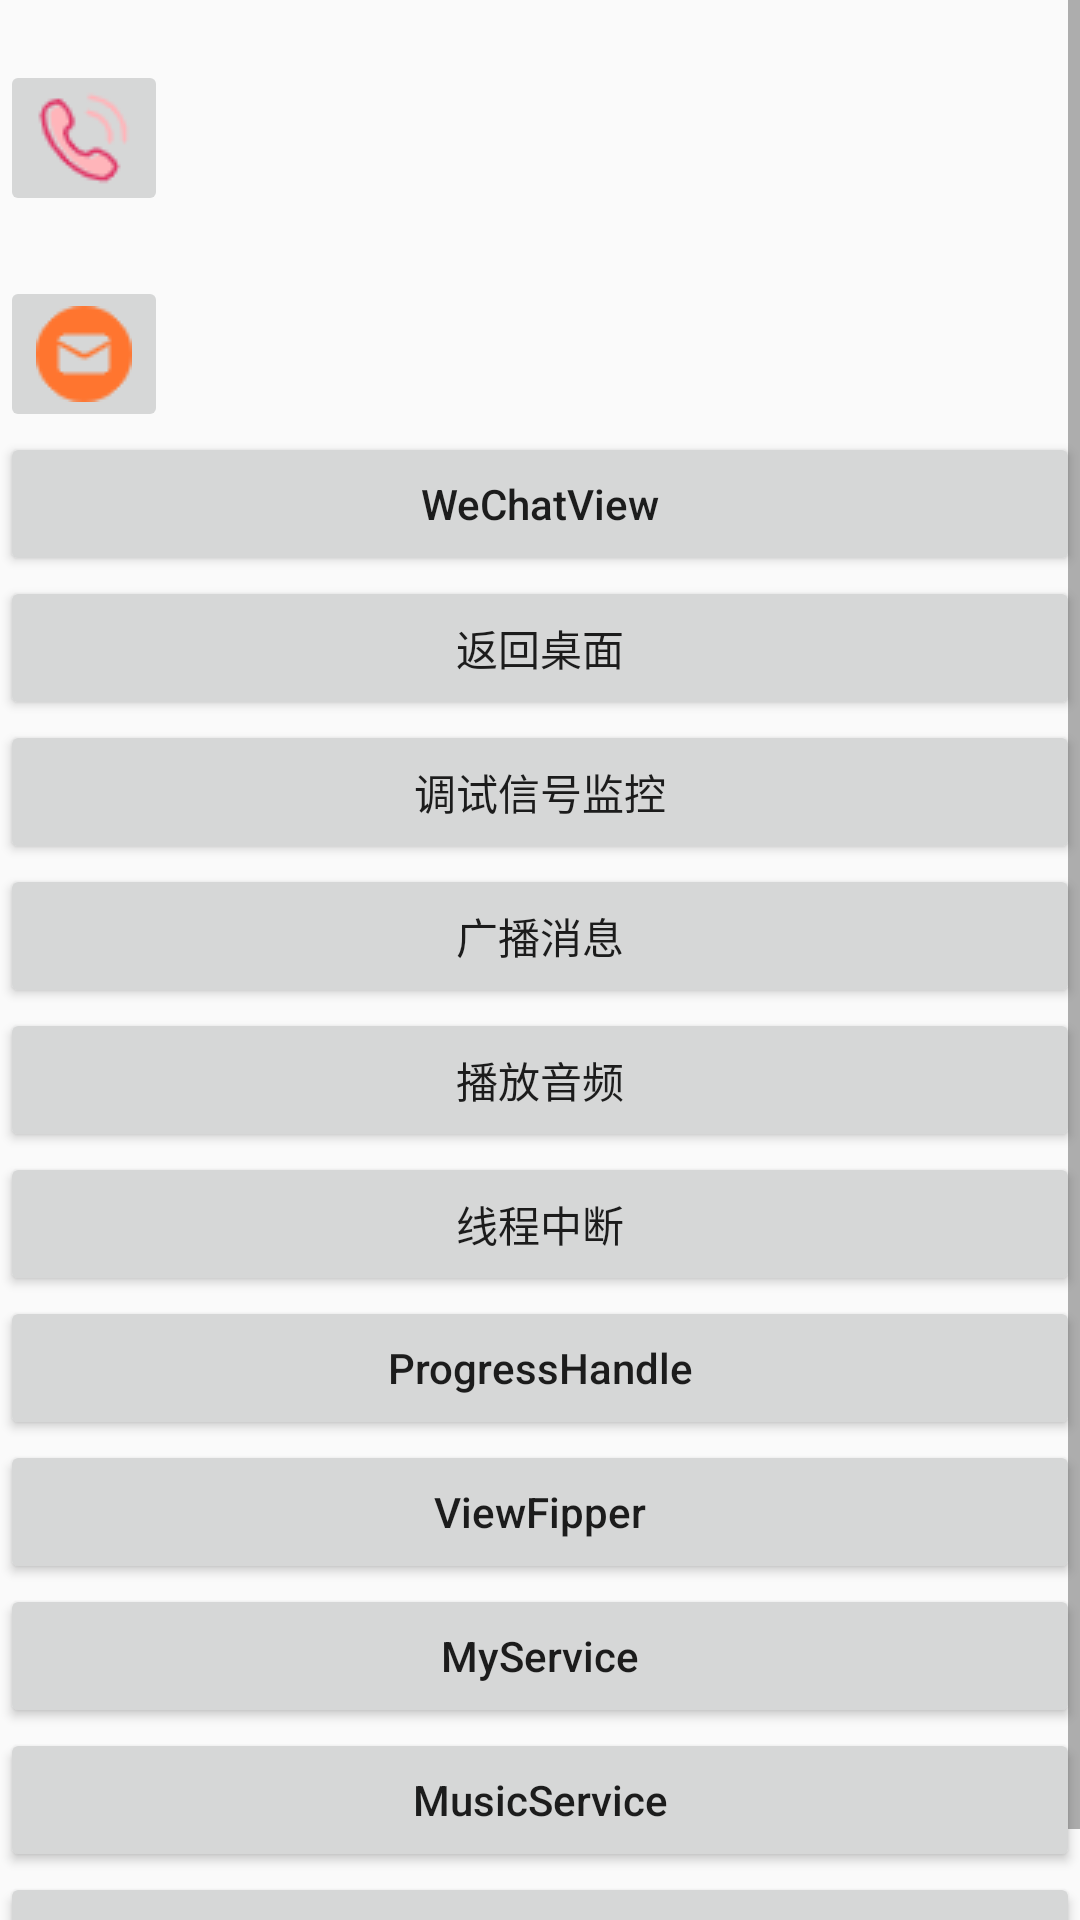

Locate icon controls on the screen. Image size 1080x1920, boxes as (x1, y1, x2, y2).
message: (12, 294, 156, 414)
phone: (12, 78, 156, 198)
